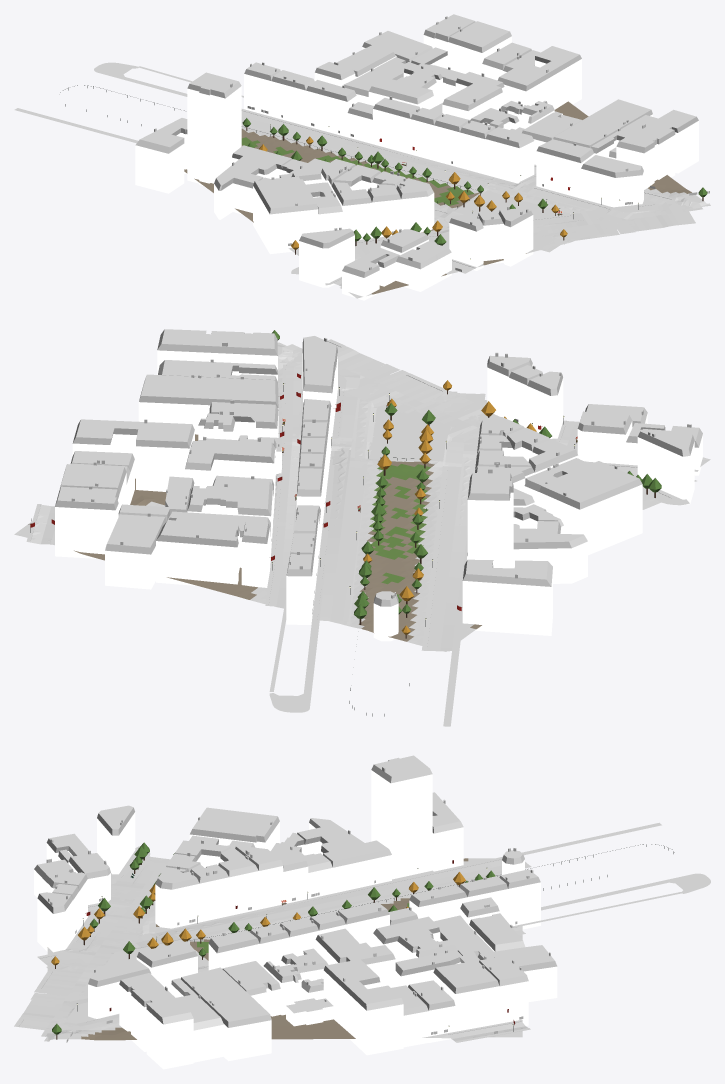
File: zone_C2.glb
3 renders of one model, top to bottom at view 1: azimuth 30°, elevation 25°; view 2: azimuth 150°, elevation 25°; view 3: azimuth 270°, elevation 25°, orthographic. The views are drawn at different scales.
Parts seen in each view (by area): view 1: zone_C2_batiments, zone_C2_sol_NOCOL, zone_C2_terrain, zone_C2_decor_NOCOL; view 2: zone_C2_batiments, zone_C2_sol_NOCOL, zone_C2_terrain, zone_C2_decor_NOCOL; view 3: zone_C2_batiments, zone_C2_sol_NOCOL, zone_C2_terrain, zone_C2_decor_NOCOL.
Boxes of the visible parts, <box> form: zone_C2_batiments: <box>135,14,698,300</box>; zone_C2_sol_NOCOL: <box>14,62,710,288</box>; zone_C2_terrain: <box>184,101,706,298</box>; zone_C2_decor_NOCOL: <box>60,85,707,259</box>; zone_C2_batiments: <box>55,329,702,641</box>; zone_C2_sol_NOCOL: <box>26,339,698,726</box>; zone_C2_terrain: <box>14,345,710,651</box>; zone_C2_decor_NOCOL: <box>30,330,661,716</box>; zone_C2_batiments: <box>34,755,557,1069</box>; zone_C2_sol_NOCOL: <box>14,822,710,1042</box>; zone_C2_terrain: <box>47,858,522,1040</box>; zone_C2_decor_NOCOL: <box>51,842,674,1039</box>.
Size of the model in its own units: 259 by 54.22 by 308.
